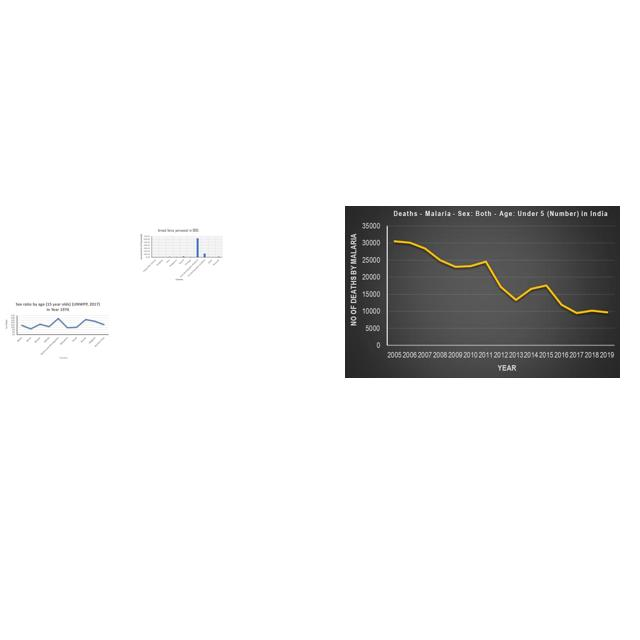Graph: (345, 206, 620, 378), (5, 300, 110, 360), (139, 227, 224, 282)
